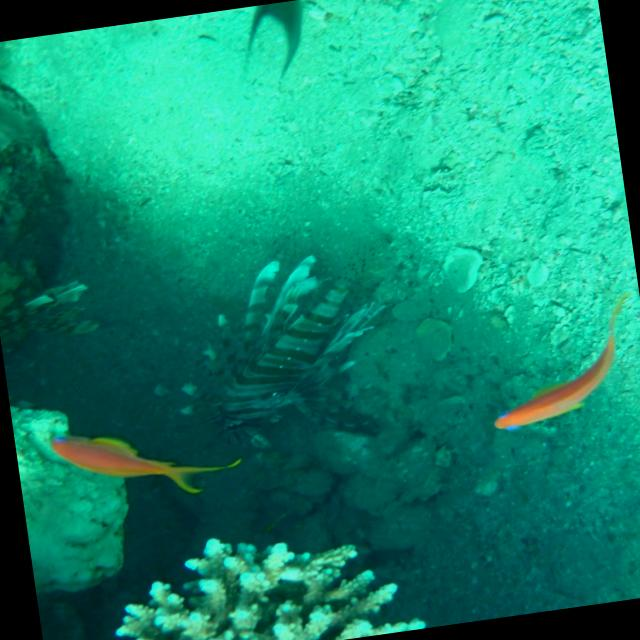Aslan Baligi: (178, 240, 416, 460)
